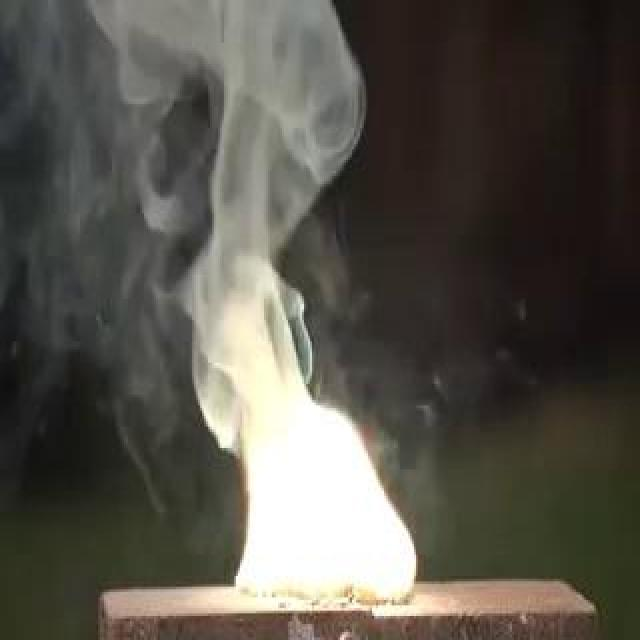Fire: (196, 304, 324, 456)
